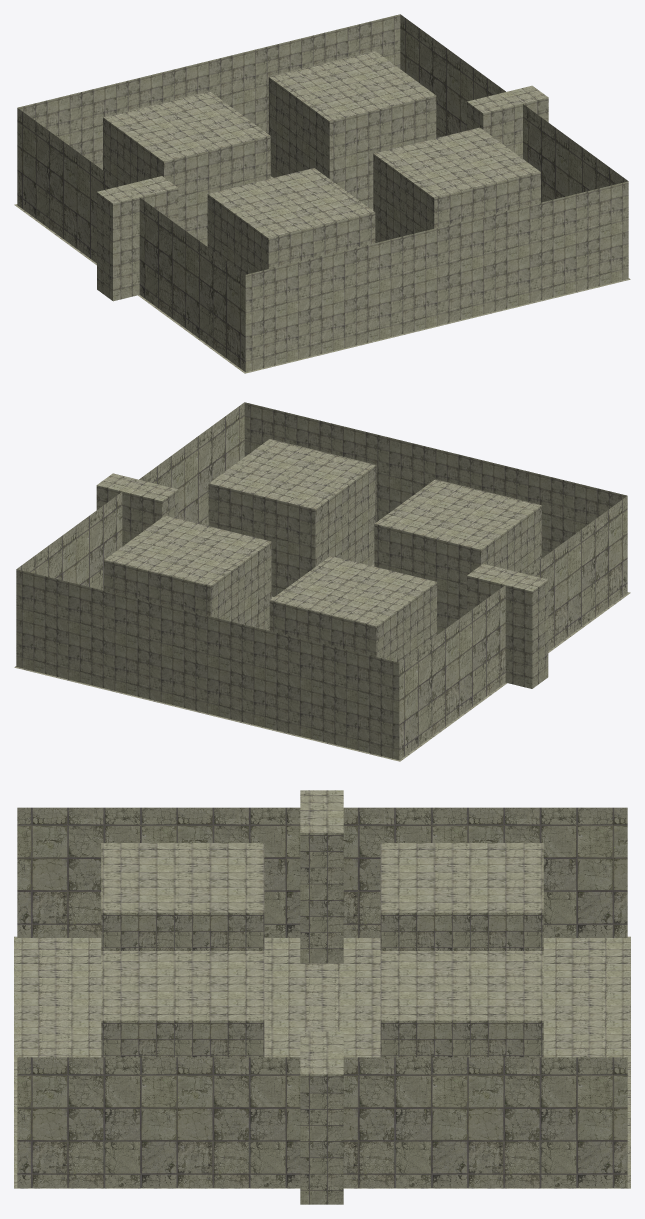
The model's file is SM_LDFest_00.fbx.
The picture shows the model from 3 angles, top to bottom: view 1: azimuth 30°, elevation 25°; view 2: azimuth 150°, elevation 25°; view 3: azimuth 270°, elevation 25°; orthographic projection. The views are drawn at different scales.
Visible parts, largest first — view 1: SM_LDFest_00; view 2: SM_LDFest_00; view 3: SM_LDFest_00.
Part boxes in pixels (left/top/right/bottom): SM_LDFest_00: left=14, top=14, right=630, bottom=373; SM_LDFest_00: left=14, top=402, right=630, bottom=761; SM_LDFest_00: left=14, top=790, right=630, bottom=1204.
Size of the model in its own units: 4030 by 863 by 3700.
